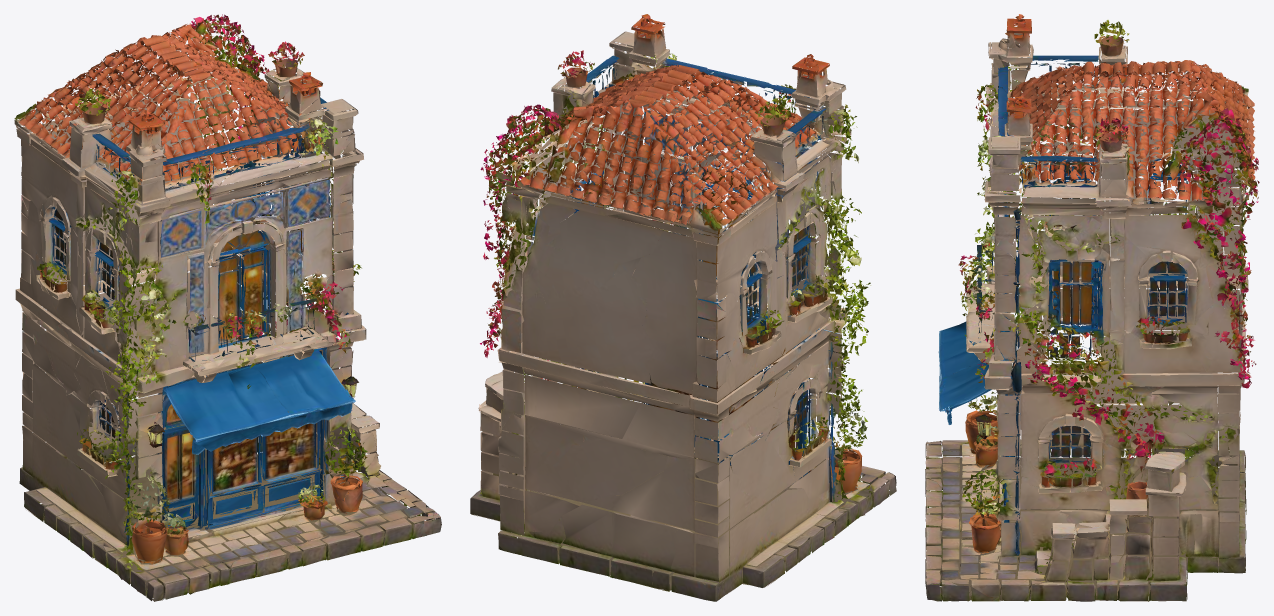
File: base_basic_pbr.glb
3 renders of one model, left to right at view 1: azimuth 30°, elevation 25°; view 2: azimuth 150°, elevation 25°; view 3: azimuth 270°, elevation 25°, orthographic. The views are drawn at different scales.
Visible parts, largest first — view 1: model; view 2: model; view 3: model.
Boxes of the visible parts, left/top/right/bottom form: model: left=14, top=14, right=441, bottom=601; model: left=470, top=14, right=896, bottom=601; model: left=925, top=14, right=1259, bottom=601.
Bounding box in the file's own units: 1.33 × 1.91 × 1.25.
1 material, 1 textured.
